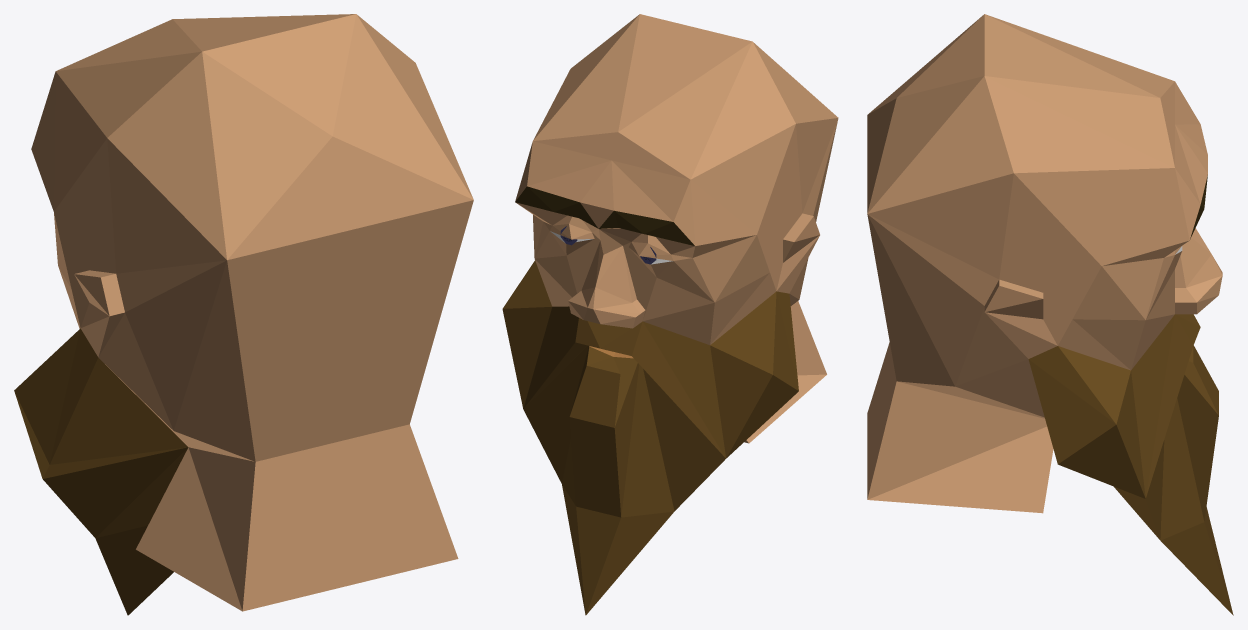
File: npc_chat_stankers_0.obj
3 views of the same model, side by side, from view 1: azimuth 30°, elevation 25°; view 2: azimuth 150°, elevation 25°; view 3: azimuth 270°, elevation 25° (orthographic). The views are drawn at different scales.
Bounding box in the file's own units: 0.75 × 1.34 × 0.7812.
